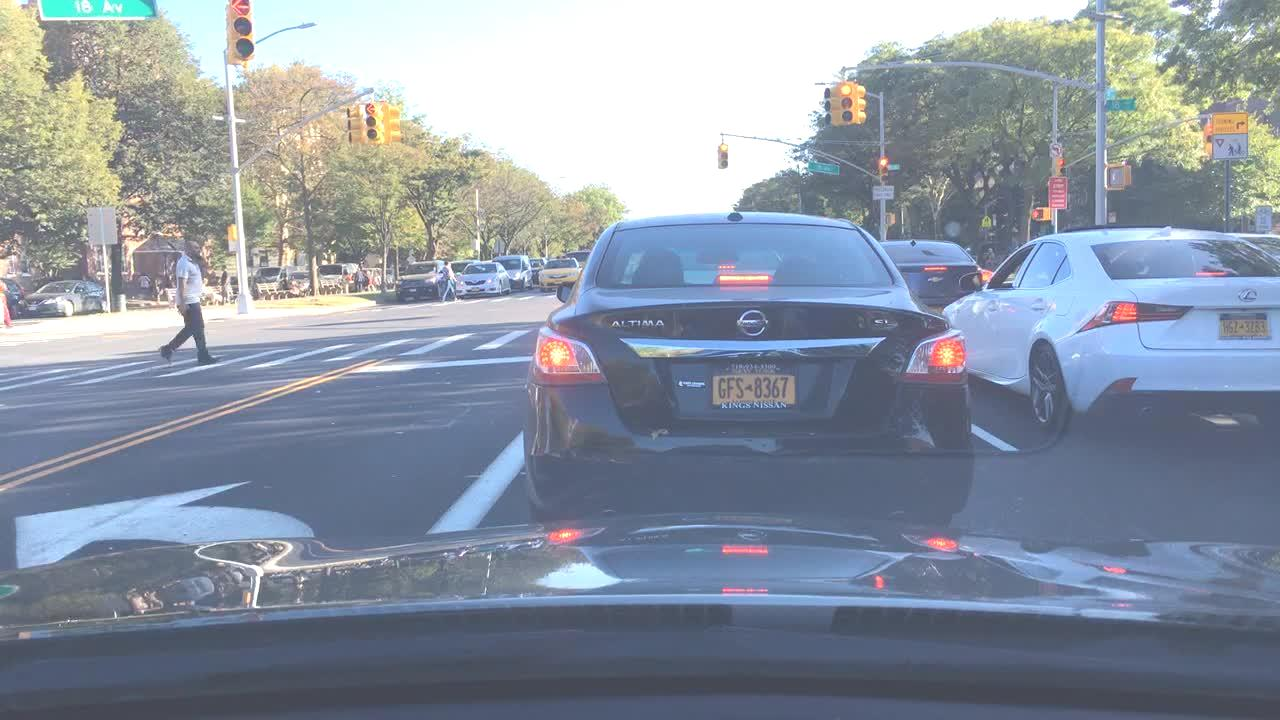Nissan: (723, 302, 783, 345)
lexus: (1226, 278, 1276, 311)
